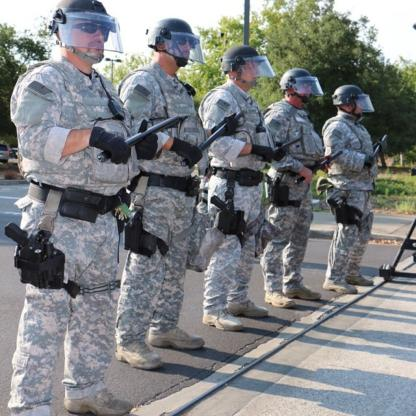Helmet: (46, 0, 124, 71), (210, 41, 278, 90), (141, 17, 205, 69), (273, 63, 330, 99), (326, 83, 380, 113)
